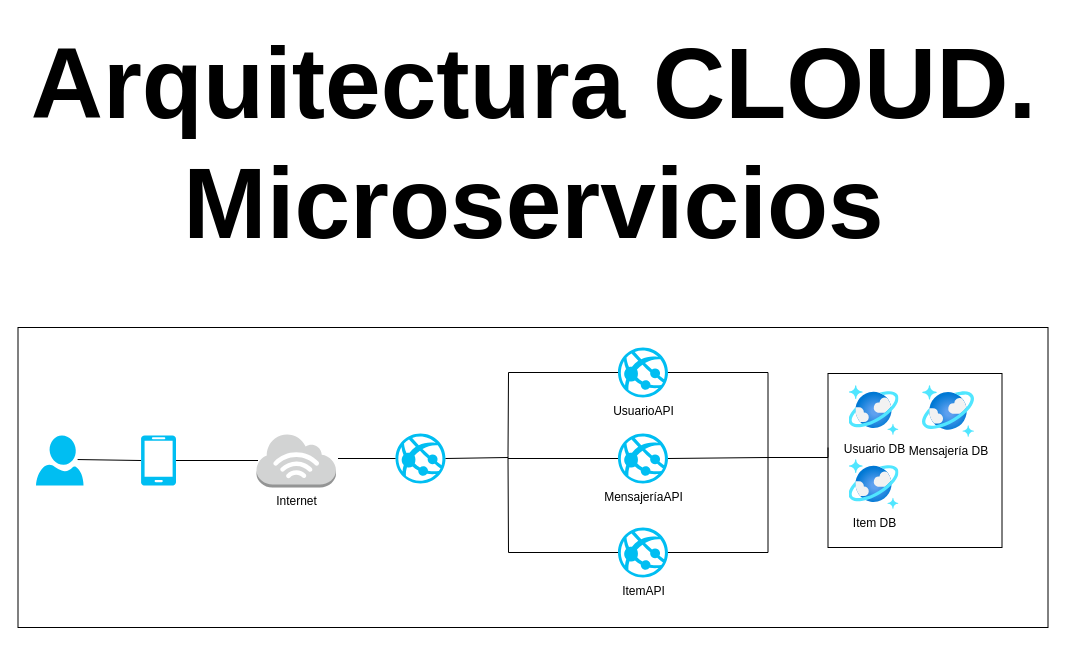
Some shapes in this 1065 by 645 pixel diagram are drawn without their labels. The shapes that lost their labels are listed below. From the top down, each one's centre as x and y in pixels, then its label:
point 158,460: Usuario
point 420,458: Yapo.cl APP
